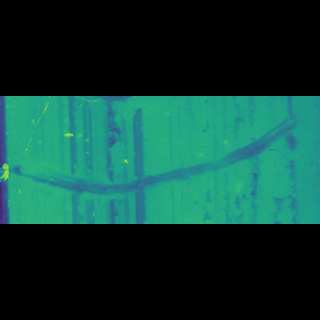Loch: (0, 137, 315, 181)
